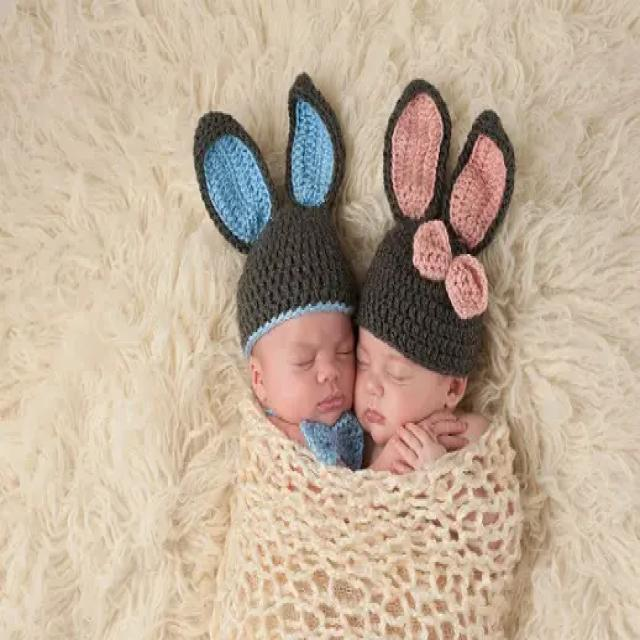non-dog: (196, 66, 368, 474), (352, 82, 516, 478)
